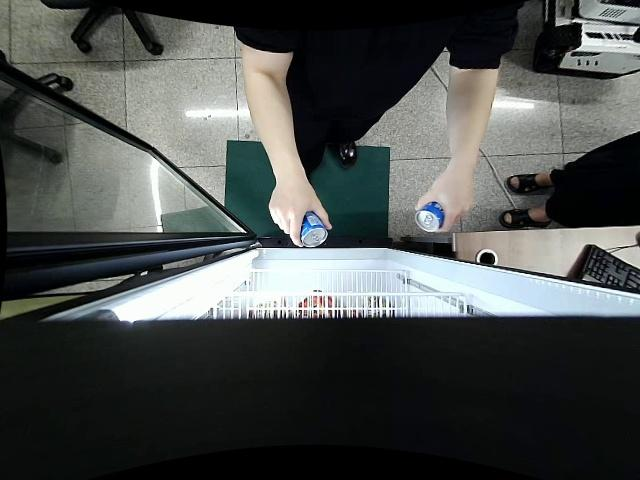00_hand: (269, 183, 333, 247), (415, 166, 474, 233)
15_letsbe: (301, 210, 329, 247), (414, 201, 444, 232)
